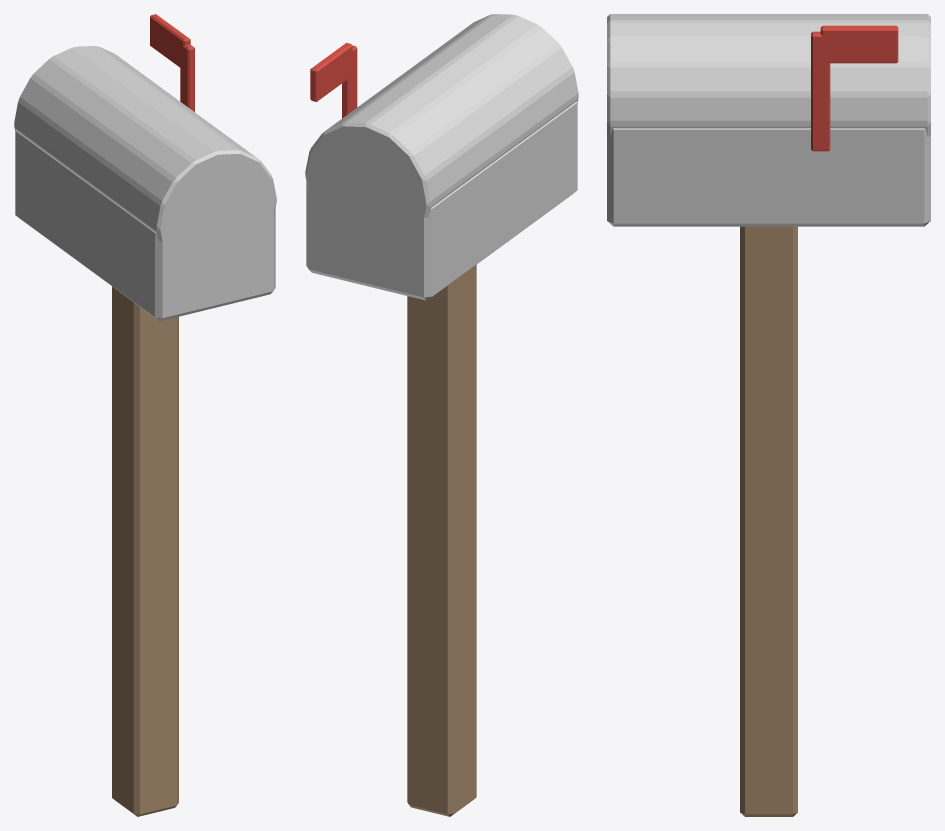
Rendered from mailbox.glb.
3 renders of one model, left to right at view 1: azimuth 30°, elevation 25°; view 2: azimuth 150°, elevation 25°; view 3: azimuth 270°, elevation 25°, orthographic. The views are drawn at different scales.
Visible parts, largest first — view 1: mailbox; view 2: mailbox; view 3: mailbox.
Part boxes in pixels (box(x1,y1,x2,y2)): mailbox: box(14, 14, 276, 816); mailbox: box(305, 14, 578, 816); mailbox: box(607, 14, 930, 816).
Size of the model in its own units: 0.2575 by 1.39 by 0.5.
